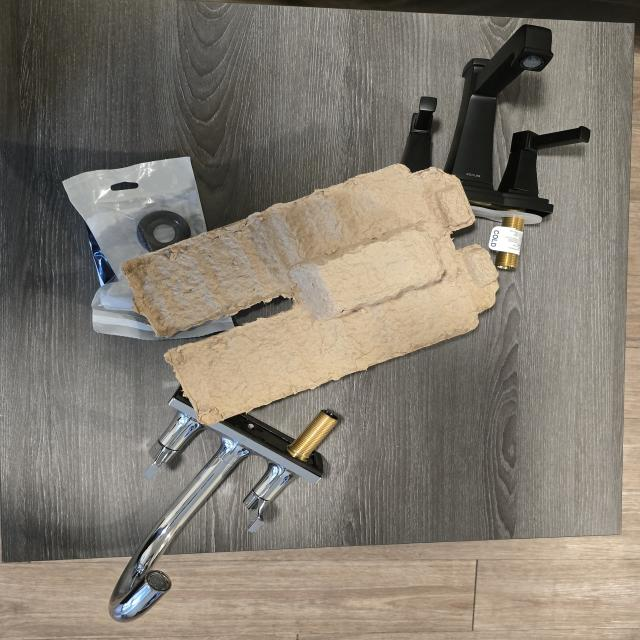10o: (109, 388, 338, 621)
13o: (63, 157, 206, 339)
9o: (444, 25, 589, 269), (401, 97, 437, 171)
